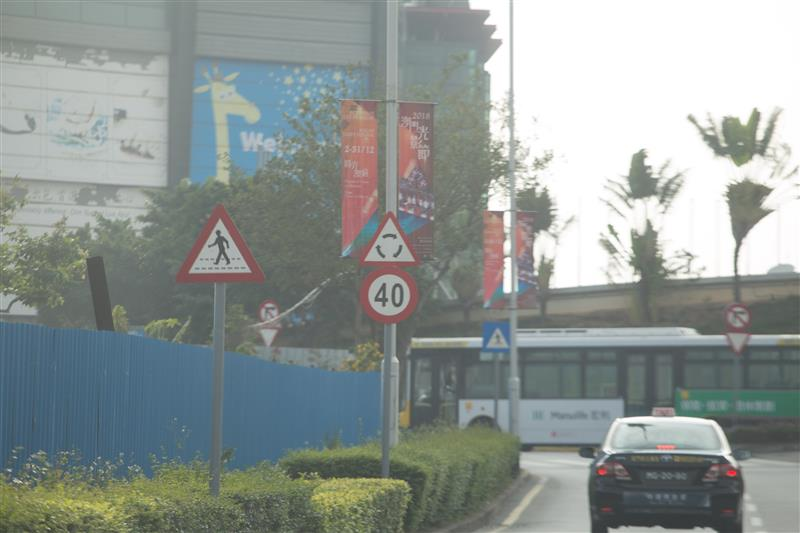40SpeedLimit: (359, 267, 419, 322)
noRightTurn: (722, 303, 751, 332)
pedestrianCrossing: (480, 318, 513, 352)
pedestrianCrossingR: (175, 204, 268, 283)
roundaboutR: (357, 210, 422, 269)
yield: (722, 330, 753, 356)
